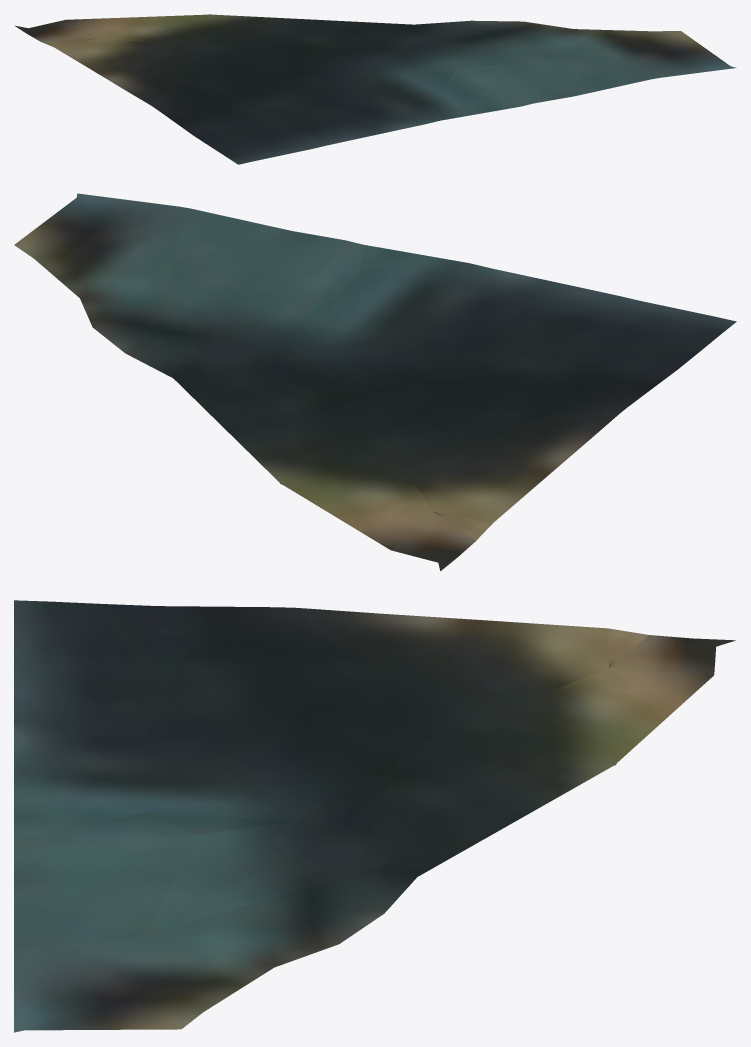
The picture shows the model from 3 angles, top to bottom: view 1: azimuth 30°, elevation 25°; view 2: azimuth 150°, elevation 25°; view 3: azimuth 270°, elevation 25°; orthographic projection. The views are drawn at different scales.
Bounding box in the file's own units: 17.69 × 0.8412 × 13.78.
1 material, 1 textured.
